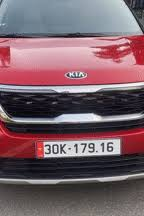Bien-so: (35, 138, 122, 160)
